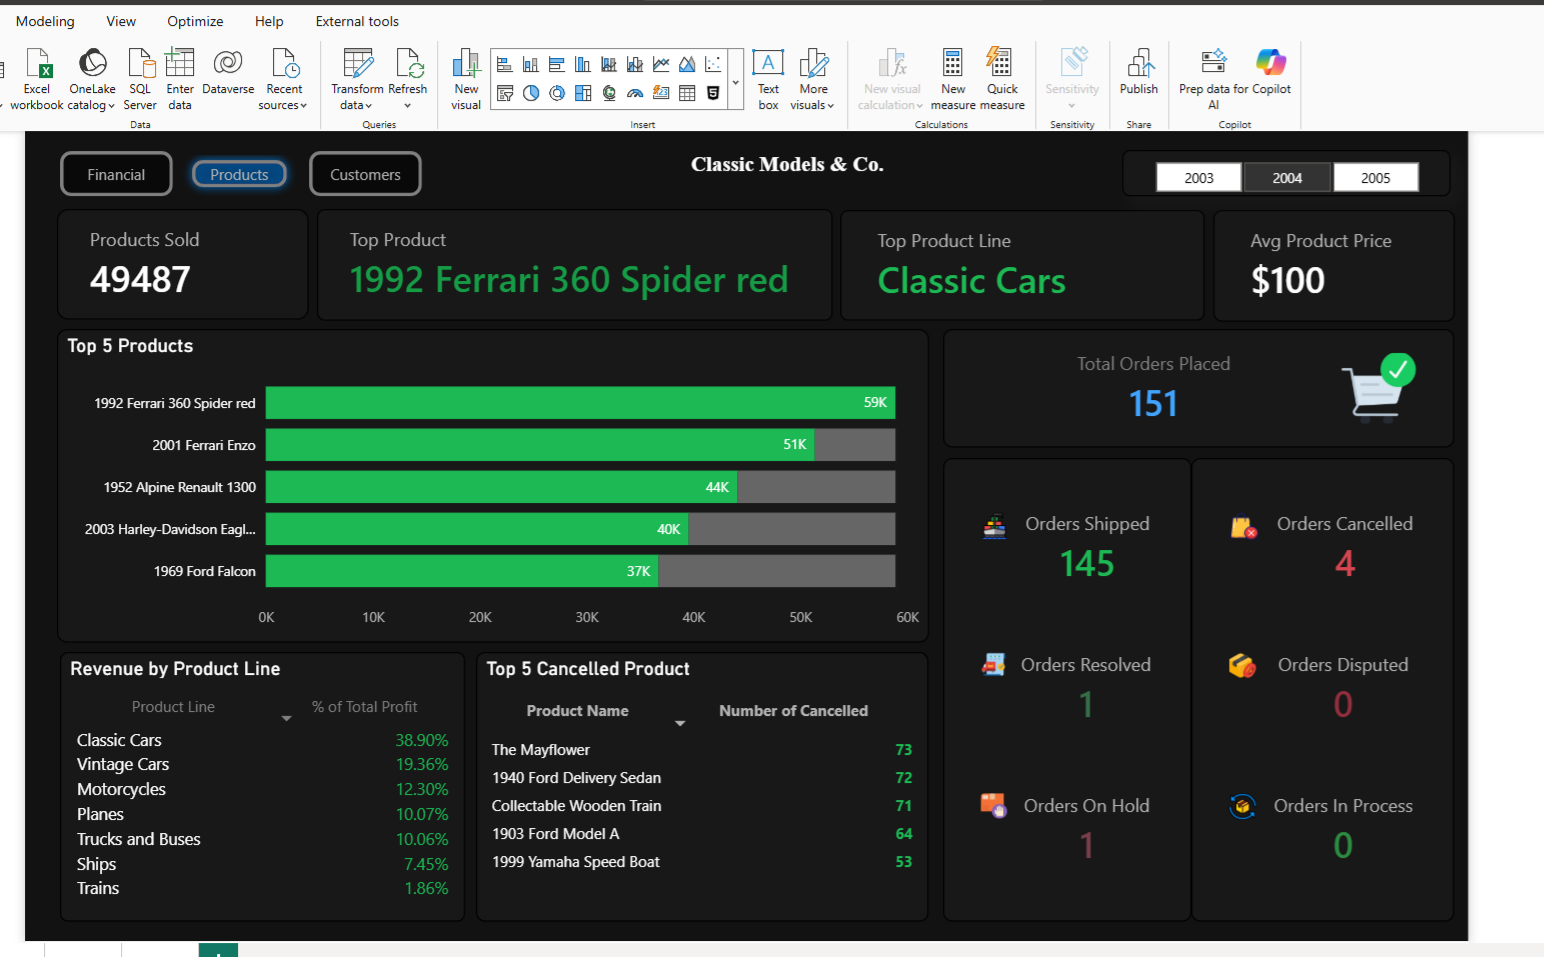

The page's visual inventory and layout, read from the dashboard file:
{"tool":"powerbi","page":{"name":"Page 2","canvas":[1280,720],"ordinal":1},"visuals":[{"type":"cardVisual","fields":{"Data":["Product Mesaures.Top_Product"]},"box":[259.2,69.1,457.5,98.7],"z":0},{"type":"cardVisual","fields":{"Data":["Product Mesaures.Products Sold"]},"box":[28.7,69.1,223.3,97.8],"z":1000},{"type":"cardVisual","fields":{"Data":["Product Mesaures.Top_Product_line"]},"box":[723,70,323.5,97.5],"z":2000},{"type":"cardVisual","fields":{"Data":["Product Mesaures.avg_product_price"]},"box":[1053.1,70,214.4,98.7],"z":3000},{"type":"tableEx","title":"Revenue by Product Line","fields":{"Values":["products.productLine","Product Mesaures.revenue_by_product_line"]},"box":[31.4,462.3,359.3,238.5],"z":4000},{"type":"barChart","title":"Top 5 Products","fields":{"Category":["products.productName"],"Y":["All Measures.Total profit","Product Mesaures.Remaining"]},"box":[28.5,175.7,772.5,277.8],"z":5000},{"type":"pivotTable","title":"Top 5 Cancelled Product","fields":{"Rows":["products.productName"],"Values":["Product Mesaures.cancelled_product"]},"box":[399.5,462.3,401.5,238.5],"z":6000},{"type":"cardVisual","fields":{"Data":["All Measures.Orders Placed"]},"box":[813.7,175.7,453.5,105],"z":7000},{"type":"cardVisual","fields":{"Data":["All Measures.Orders Cancelled","All Measures.Orders Disputed","All Measures.Orders In Process"]},"box":[1033.9,290,233.2,410.5],"z":8000},{"type":"cardVisual","fields":{"Data":["All Measures.Orders Shipped","All Measures.Orders Resolved","All Measures.Orders On Hold"]},"box":[814,290,219.9,410.5],"z":9000},{"type":"textbox","box":[585.2,13.3,197.3,39.1],"z":9001},{"type":"slicer","fields":{"Values":["DateTable.Year"]},"box":[972.7,16.8,290.8,40.8],"z":9002},{"type":"actionButton","box":[31,17.7,100,40],"z":9003},{"type":"actionButton","box":[140.1,17.7,100,40],"z":9004},{"type":"actionButton","box":[251.8,17.7,100,40],"z":9005}]}

Visuals, with their boxes on the page's 1280x720 design canvas (x1, y1, x2, y2). These are canvas units, not pixel positions in the 1544x957 screenshot, which may show the page scaled, cropped or inside an application window:
cardVisual - Product Mesaures.Top_Product: 259:69:717:168
cardVisual - Product Mesaures.Products Sold: 29:69:252:167
cardVisual - Product Mesaures.Top_Product_line: 723:70:1046:168
cardVisual - Product Mesaures.avg_product_price: 1053:70:1268:169
"Revenue by Product Line" tableEx: 31:462:391:701
"Top 5 Products" barChart: 28:176:801:454
"Top 5 Cancelled Product" pivotTable: 400:462:801:701
cardVisual - All Measures.Orders Placed: 814:176:1267:281
cardVisual - All Measures.Orders Cancelled x All Measures.Orders Disputed: 1034:290:1267:700
cardVisual - All Measures.Orders Shipped x All Measures.Orders Resolved: 814:290:1034:700
textbox: 585:13:782:52
slicer - DateTable.Year: 973:17:1264:58
actionButton: 31:18:131:58
actionButton: 140:18:240:58
actionButton: 252:18:352:58
